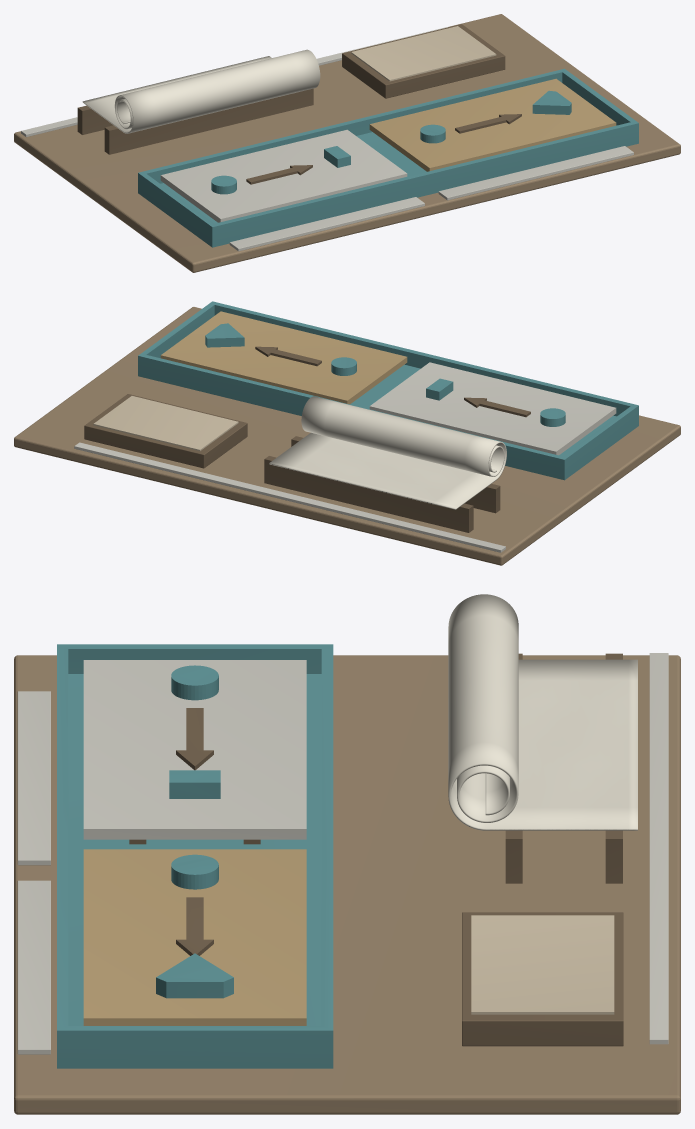
The model's file is intertestament-languages.glb.
3 renders of one model, top to bottom at view 1: azimuth 30°, elevation 25°; view 2: azimuth 150°, elevation 25°; view 3: azimuth 270°, elevation 25°, orthographic. The views are drawn at different scales.
Parts seen in each view (by area): view 1: intertestament-languages-intertestament-original-matte-wood, intertestament-languages-intertestament-modern-comparison-te (×3), intertestament-languages-intertestament-modern-neutral-panel, intertestament-languages-intertestament-modern-comparison-oc, intertestament-languages-intertestament-modern-blank-sheet, intertestament-languages-intertestament-original-dark-wood.0 (×4), intertestament-languages-intertestament-modern-neutral-pane., intertestament-languages-intertestament-modern-flat-material, intertestament-languages-intertestament-modern-neutral-pane; view 2: intertestament-languages-intertestament-original-matte-wood, intertestament-languages-intertestament-modern-comparison-te (×3), intertestament-languages-intertestament-modern-blank-sheet, intertestament-languages-intertestament-modern-neutral-panel, intertestament-languages-intertestament-modern-comparison-oc, intertestament-languages-intertestament-original-dark-wood.0 (×4), intertestament-languages-intertestament-modern-flat-material, intertestament-languages-intertestament-modern-neutral-pane; view 3: intertestament-languages-intertestament-original-matte-wood, intertestament-languages-intertestament-modern-comparison-te (×3), intertestament-languages-intertestament-modern-blank-sheet, intertestament-languages-intertestament-modern-neutral-panel, intertestament-languages-intertestament-modern-comparison-oc, intertestament-languages-intertestament-modern-flat-material, intertestament-languages-intertestament-original-dark-wood.0 (×4), intertestament-languages-intertestament-modern-neutral-pane., intertestament-languages-intertestament-modern-neutral-pane.
Boxes of the visible parts, box(x1,y1,x2,y2) form: intertestament-languages-intertestament-original-matte-wood: box(14, 14, 680, 272); intertestament-languages-intertestament-modern-comparison-te (×3): box(138, 68, 638, 247); intertestament-languages-intertestament-modern-neutral-panel: box(160, 129, 407, 222); intertestament-languages-intertestament-modern-comparison-oc: box(369, 78, 616, 171); intertestament-languages-intertestament-modern-blank-sheet: box(82, 49, 320, 133); intertestament-languages-intertestament-original-dark-wood.0 (×4): box(77, 24, 521, 184); intertestament-languages-intertestament-modern-neutral-pane.: box(229, 146, 633, 251); intertestament-languages-intertestament-modern-flat-material: box(351, 26, 496, 81); intertestament-languages-intertestament-modern-neutral-pane: box(21, 27, 447, 137); intertestament-languages-intertestament-original-matte-wood: box(14, 307, 680, 565); intertestament-languages-intertestament-modern-comparison-te (×3): box(138, 301, 638, 480); intertestament-languages-intertestament-modern-blank-sheet: box(269, 396, 506, 509); intertestament-languages-intertestament-modern-neutral-panel: box(369, 362, 616, 455); intertestament-languages-intertestament-modern-comparison-oc: box(160, 311, 407, 404); intertestament-languages-intertestament-original-dark-wood.0 (×4): box(84, 346, 530, 532); intertestament-languages-intertestament-modern-flat-material: box(93, 396, 238, 451); intertestament-languages-intertestament-modern-neutral-pane: box(74, 442, 505, 552); intertestament-languages-intertestament-original-matte-wood: box(14, 655, 680, 1114); intertestament-languages-intertestament-modern-comparison-te (×3): box(57, 644, 333, 1068); intertestament-languages-intertestament-modern-blank-sheet: box(448, 594, 637, 830); intertestament-languages-intertestament-modern-neutral-panel: box(83, 660, 306, 839); intertestament-languages-intertestament-modern-comparison-oc: box(83, 849, 306, 1025); intertestament-languages-intertestament-modern-flat-material: box(471, 915, 614, 1014); intertestament-languages-intertestament-original-dark-wood.0 (×4): box(176, 653, 623, 1046); intertestament-languages-intertestament-modern-neutral-pane.: box(17, 691, 50, 1054); intertestament-languages-intertestament-modern-neutral-pane: box(649, 653, 668, 1044).
Bounding box in the file's own units: 1.1 × 0.1518 × 0.7.
